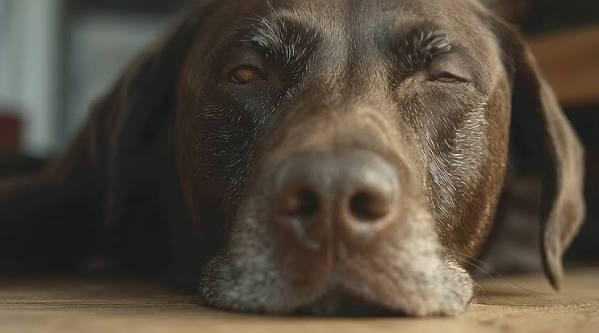adult_dog: (0, 1, 590, 319)
